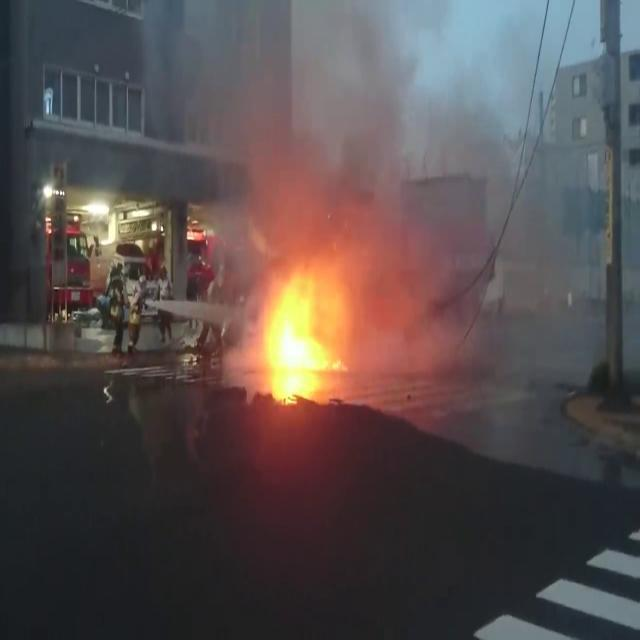Fire: (264, 271, 348, 373)
Smoke: (138, 5, 532, 196)
